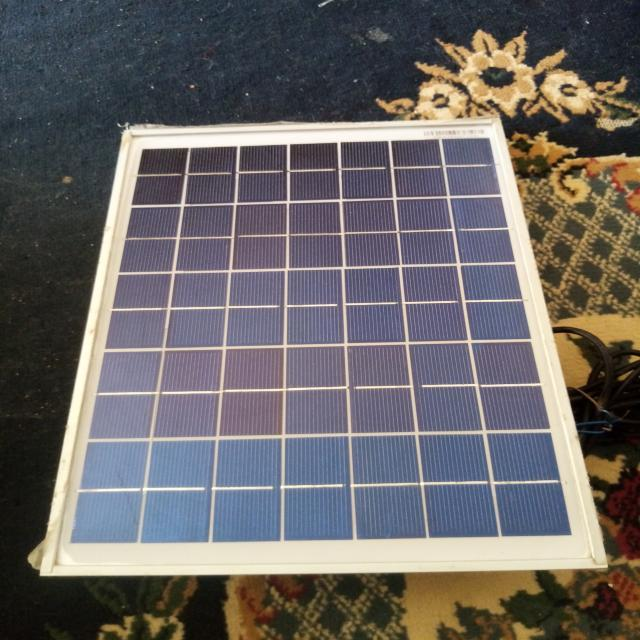no faulty: (45, 120, 607, 575)
